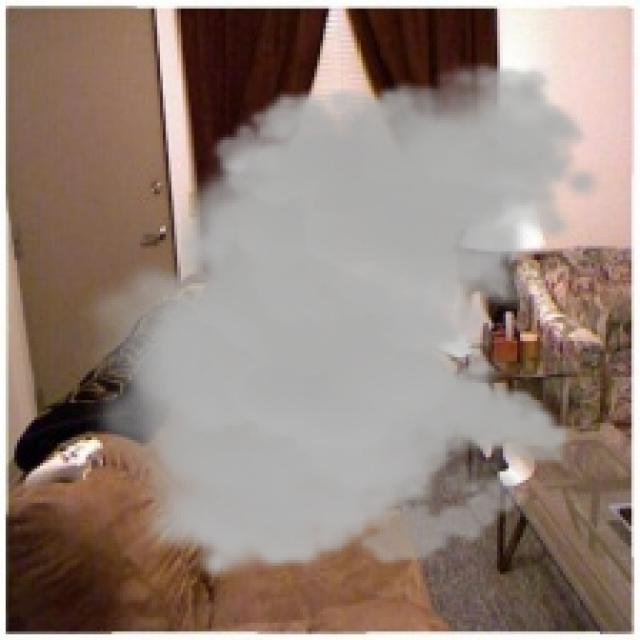Smoke: (74, 60, 606, 583)
